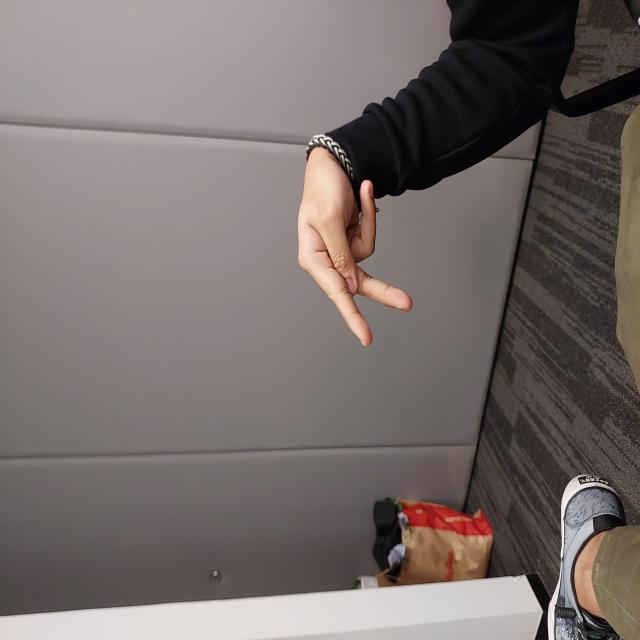P: (293, 297, 507, 415)
